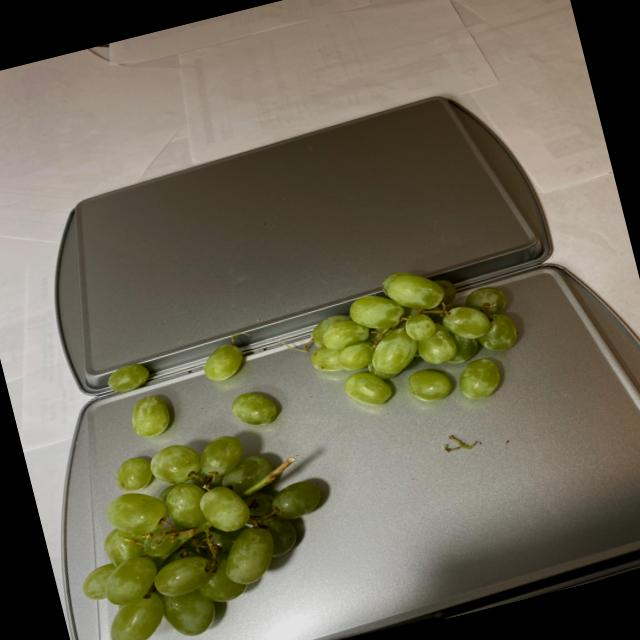grapes: (34, 317, 349, 640), (289, 247, 539, 438)
